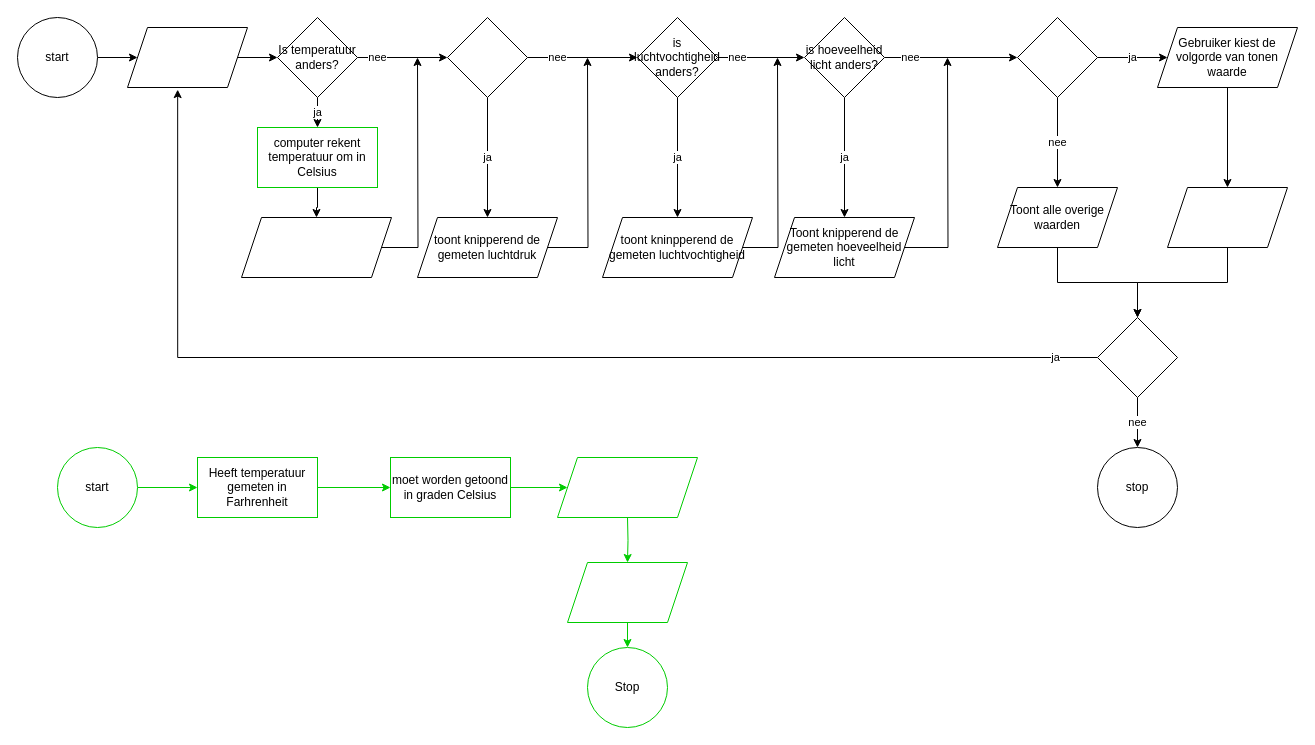
Some shapes in this 1315 by 745 pixel diagram are drawn without their labels. The centre of each missing label's shape, as x and y in pixels:
arduino meet alle gegevens: [187,57]
Is luchtdruk anders?: [487,57]
Reken farhenheit om naar graden celsius: [627,487]
Stuur gevens naar lichtbord: [627,592]
Toont de waarde in gekozen volgorde: [1227,217]
Toont knipperend de gemeten temperatuur: [316,247]
vier minuten om?: [1137,357]
zijn alle waarden hetzelfde?: [1057,57]
